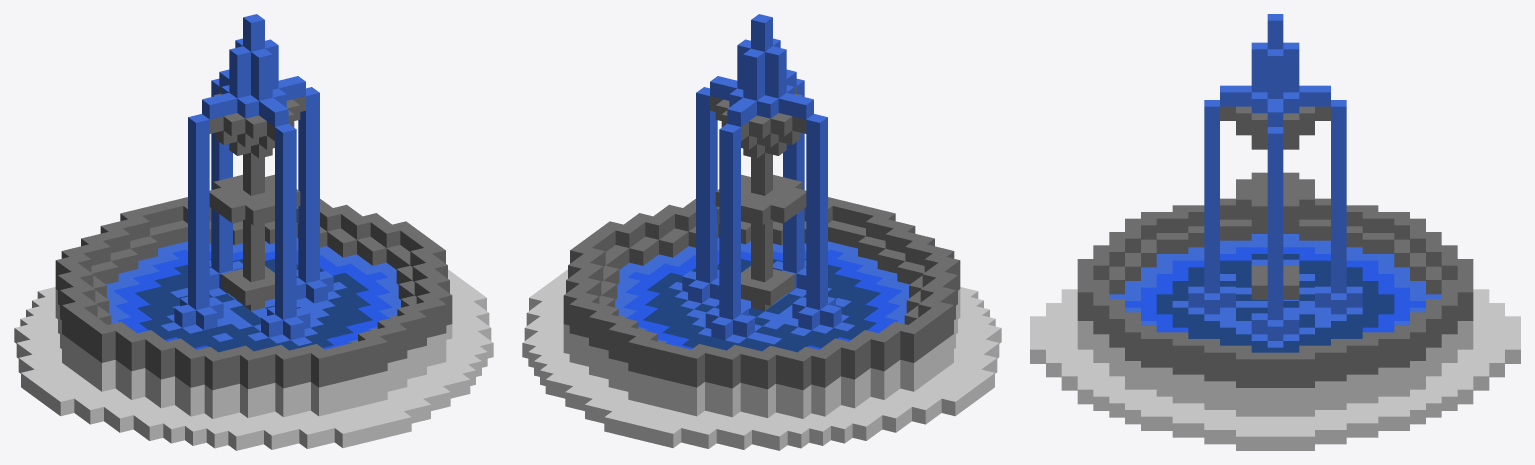
The model's file is Fountain_obj.obj.
The picture shows the model from 3 angles, left to right: view 1: azimuth 30°, elevation 25°; view 2: azimuth 150°, elevation 25°; view 3: azimuth 270°, elevation 25°; orthographic projection.
Parts seen in each view (by area): view 1: 立方体.002; view 2: 立方体.002; view 3: 立方体.002.
Boxes of the visible parts, bbox=[...] form: 立方体.002: bbox=[14, 14, 493, 450]; 立方体.002: bbox=[522, 14, 1001, 450]; 立方体.002: bbox=[1030, 14, 1520, 450].
Bounding box in the file's own units: 31 × 23 × 31.
